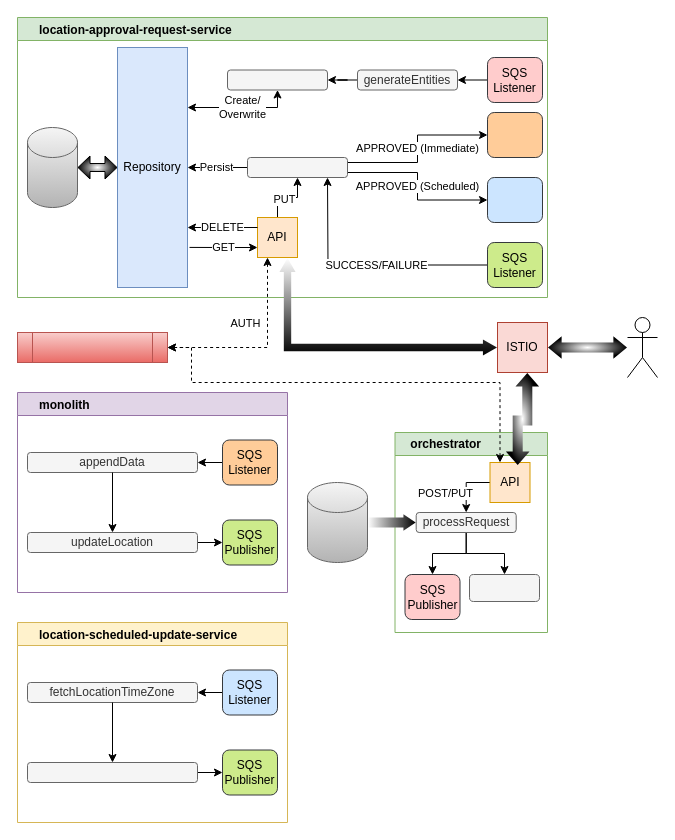
This 675x840 diagram has some shape labels left out. The shapes that lost their labels are listed below. From the top down, each one's centre as x and y in pixels, then its label:
At [277,79]: "checkDuplicates".
At [514,135]: "SQS Publisher 1".
At [52,167]: "DB".
At [297,167]: "updateStatus".
At [514,199]: "SQS Publisher 2".
At [92,347]: "user-access-service".
At [642,347]: "Actor".
At [337,522]: "Uberall DB".
At [504,588]: "forwardAPI".
At [112,772]: "createScheduledUpdate".
